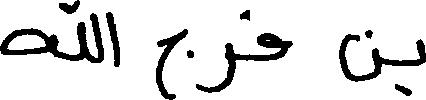X: (339, 25, 379, 86), (197, 38, 235, 97), (158, 24, 187, 99), (0, 23, 54, 61), (257, 28, 284, 65), (90, 8, 102, 67), (110, 7, 119, 71), (77, 0, 85, 65), (417, 34, 425, 70)
